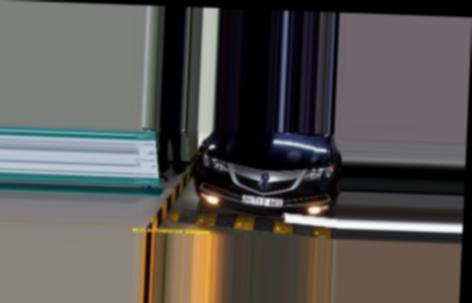License_Plate: (239, 194, 286, 209)
